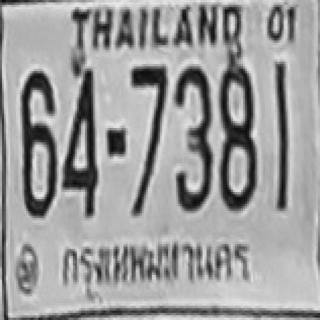N01: (274, 62, 287, 164)
N03: (173, 68, 212, 210)
N04: (61, 66, 97, 216)
N07: (130, 64, 166, 149)
N08: (219, 63, 255, 207)
P04: (47, 232, 269, 295)
